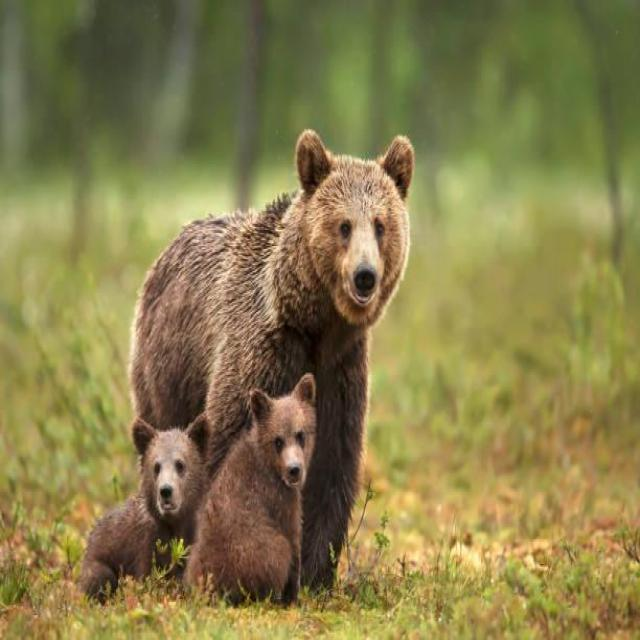Bear: (125, 130, 410, 590), (185, 375, 317, 609), (81, 423, 205, 602)
